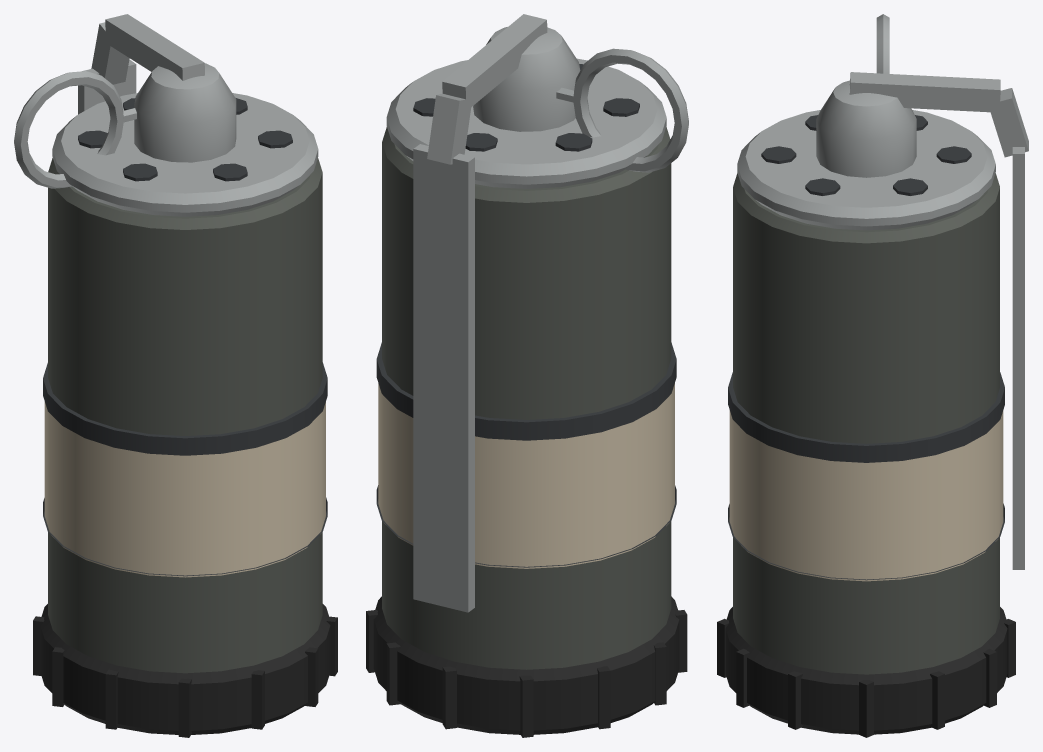
Rendered from eqp_smoke_bomb.glb.
3 views of the same model, side by side, from view 1: azimuth 30°, elevation 25°; view 2: azimuth 150°, elevation 25°; view 3: azimuth 270°, elevation 25° (orthographic). The views are drawn at different scales.
Parts seen in each view (by area): view 1: Body, Pin; view 2: Body, Pin; view 3: Body, Pin.
Boxes of the visible parts, <box> form: Body: <box>33,14,337,737</box>; Pin: <box>14,71,136,188</box>; Body: <box>366,14,687,737</box>; Pin: <box>556,48,688,172</box>; Body: <box>717,72,1028,737</box>; Pin: <box>876,14,889,73</box>.
Size of the model in its own units: 0.0796 by 0.1608 by 0.0747.
